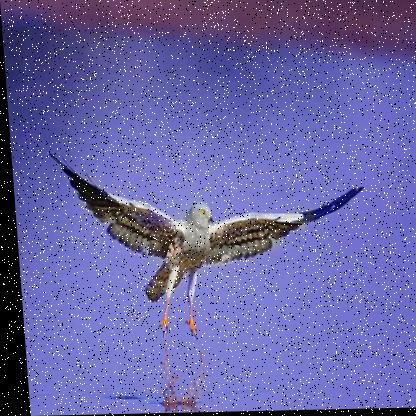Burung: (41, 164, 368, 337)
